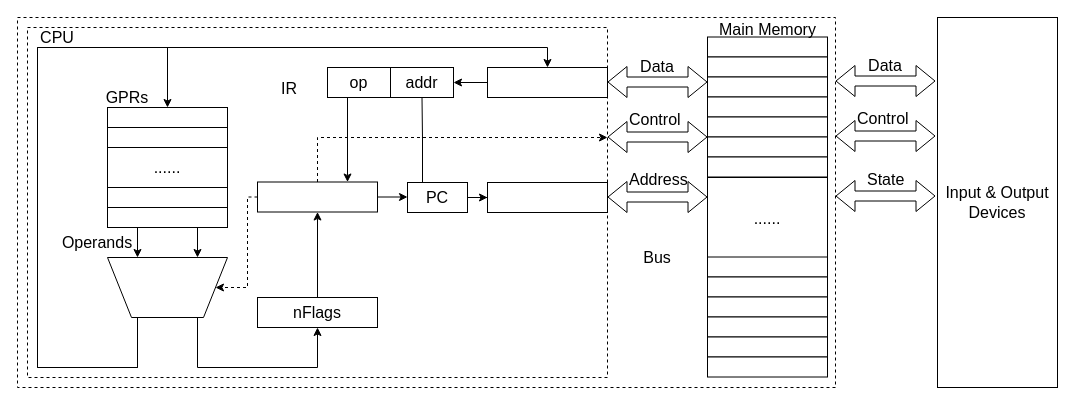
This 1075x405 diagram has some shape labels left out. The shapes that lost their labels are listed below. From the top down, each one's centre as x and y in pixels, then its label:
pixel 547 82: MDR
pixel 317 196: CU
pixel 547 197: MAR
pixel 167 287: ALU
